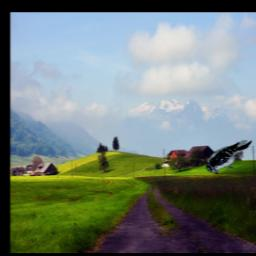Woodpecker: (205, 140, 252, 174)
